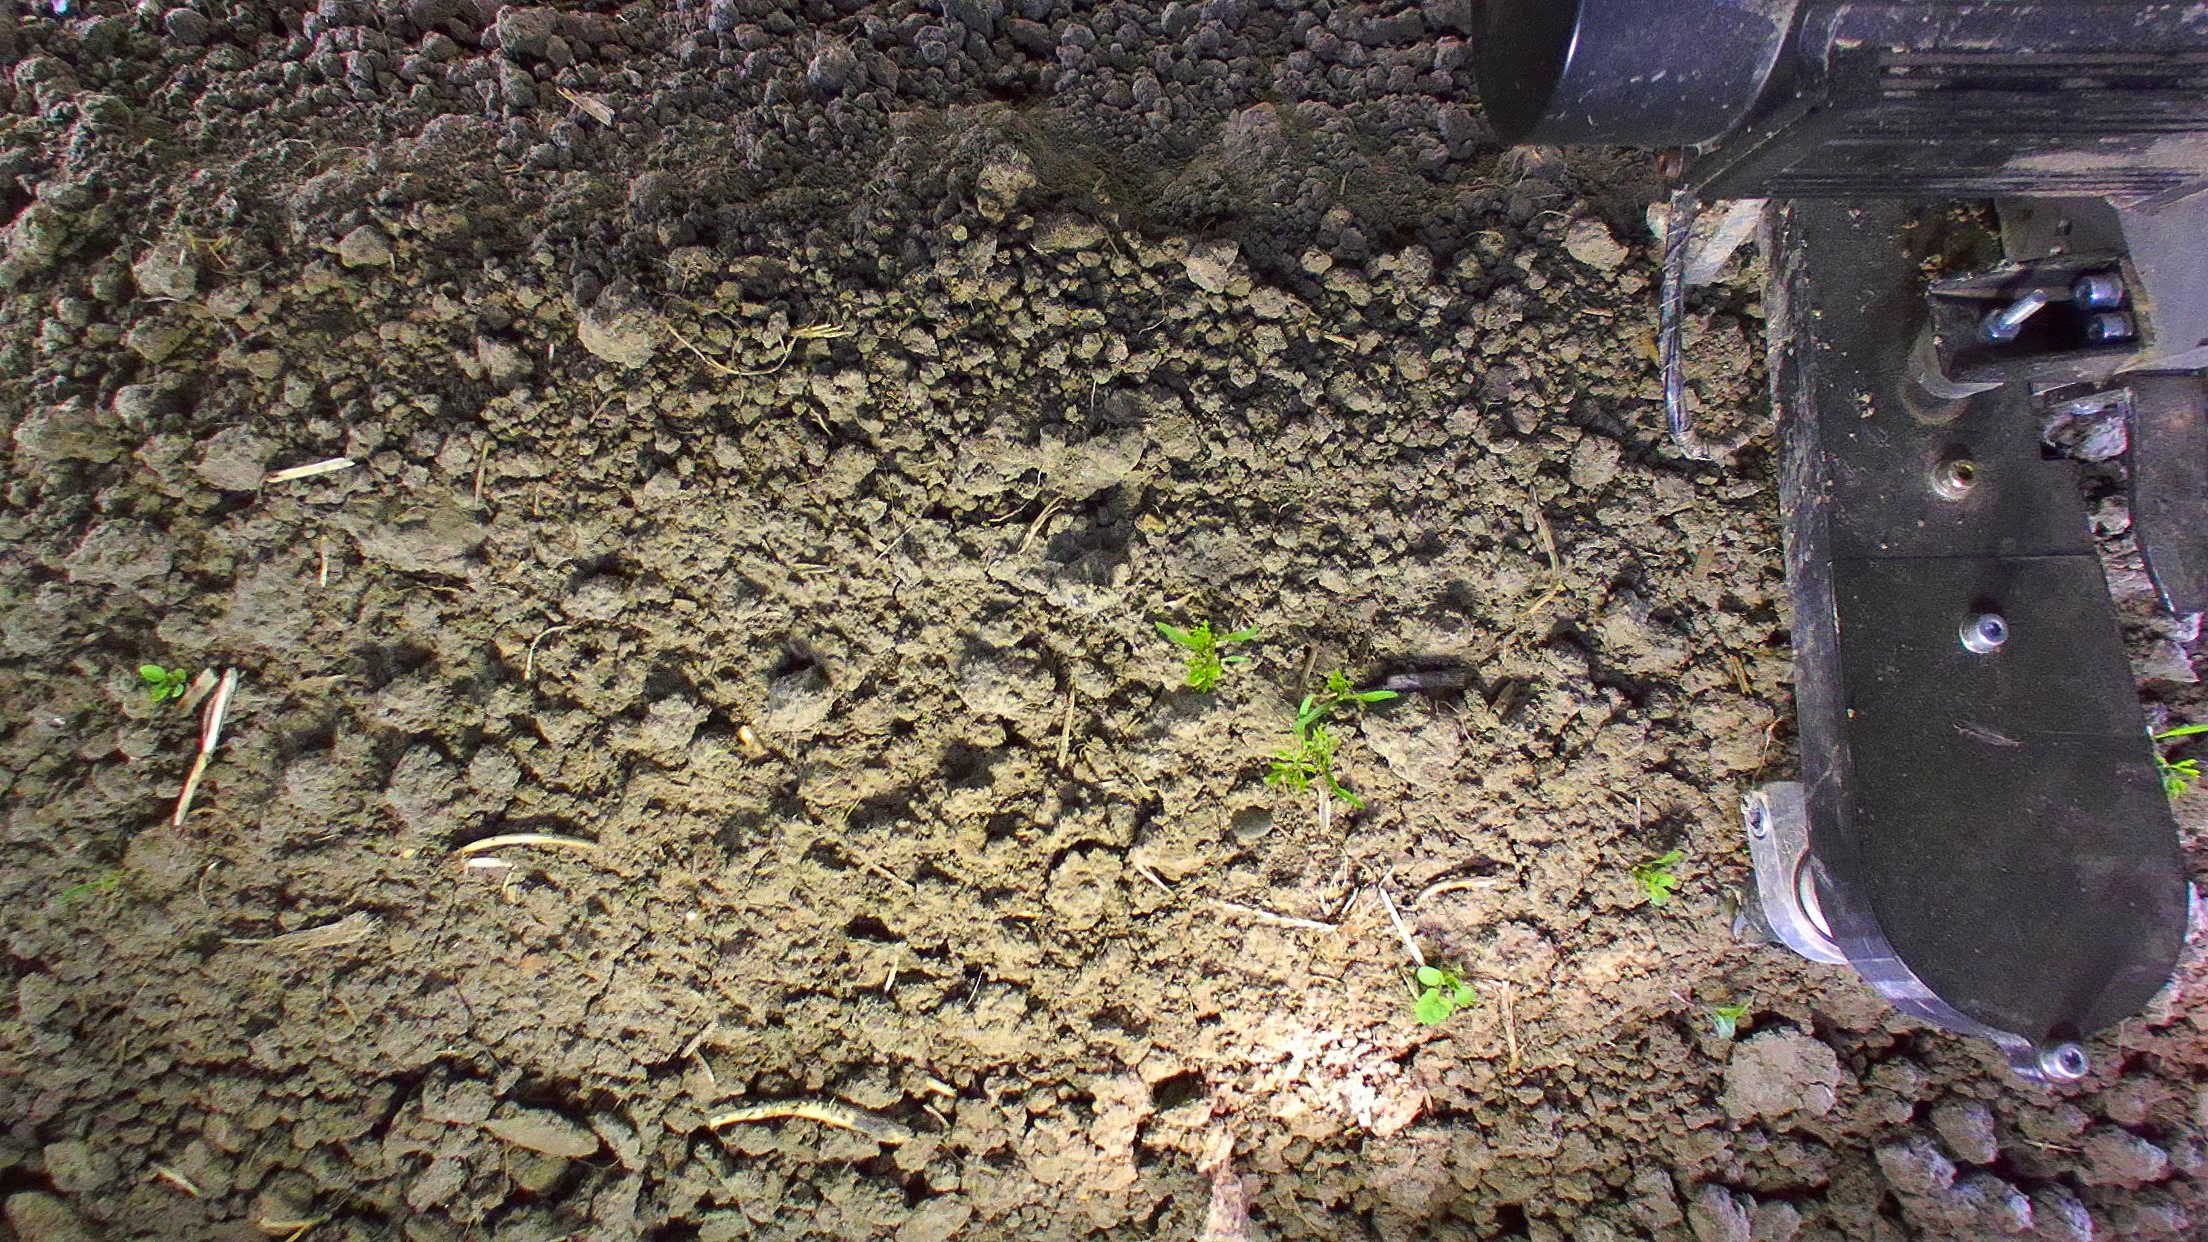Crop: (1262, 666, 1403, 811), (1151, 616, 1262, 695), (135, 660, 193, 707), (2149, 749, 2200, 801)
Weed: (1410, 961, 1476, 1028), (1629, 846, 1685, 904), (1709, 1001, 1749, 1030)
